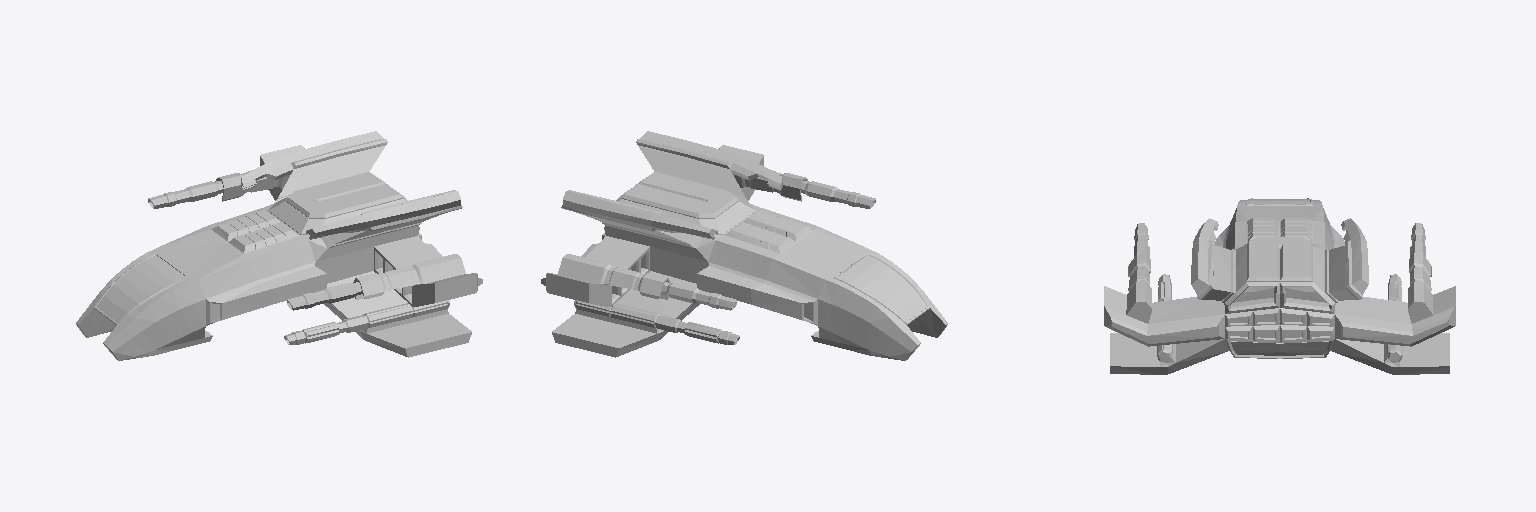
The model's file is Original_human_spaceShip_V2.obj.
The picture shows the model from 3 angles: view 1: azimuth 30°, elevation 25°; view 2: azimuth 150°, elevation 25°; view 3: azimuth 270°, elevation 25°; orthographic projection.
Visible parts, largest first — view 1: Object007; view 2: Object007; view 3: Object007.
Part boxes in pixels (left/top/right/bottom): Object007: left=76, top=131, right=482, bottom=360; Object007: left=541, top=131, right=947, bottom=360; Object007: left=1104, top=198, right=1455, bottom=374.
Size of the model in its own units: 0.7492 by 0.2424 by 0.6888.